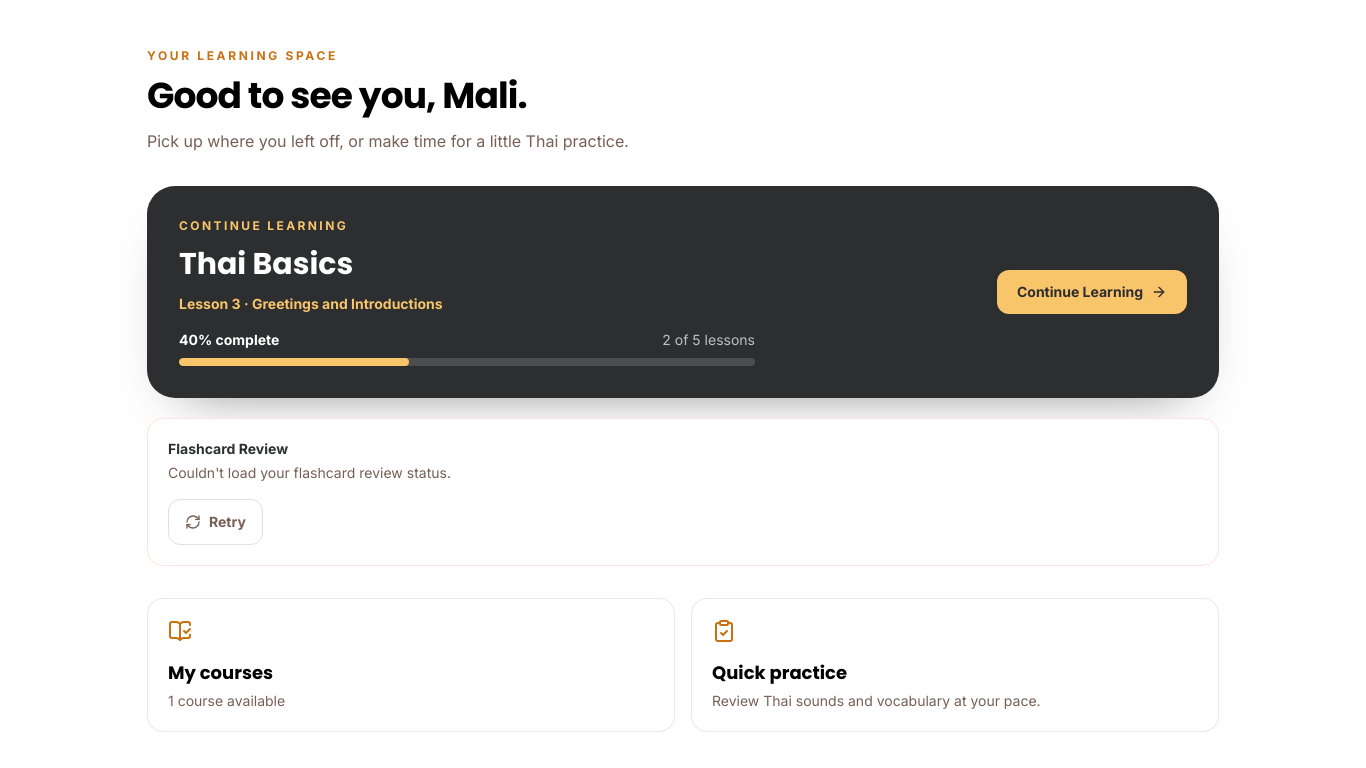
Test: precise continue learning navigation › keeps Continue Learning available when review summary fails and retries only review summary
Expected: the link "Continue Learning" is shown, [997, 270, 1187, 314]
Expected: the message "Couldn't load your flashcard review status." is shown, [168, 464, 451, 481]
Click the button "Retry" at [215, 522], box [168, 499, 263, 545]
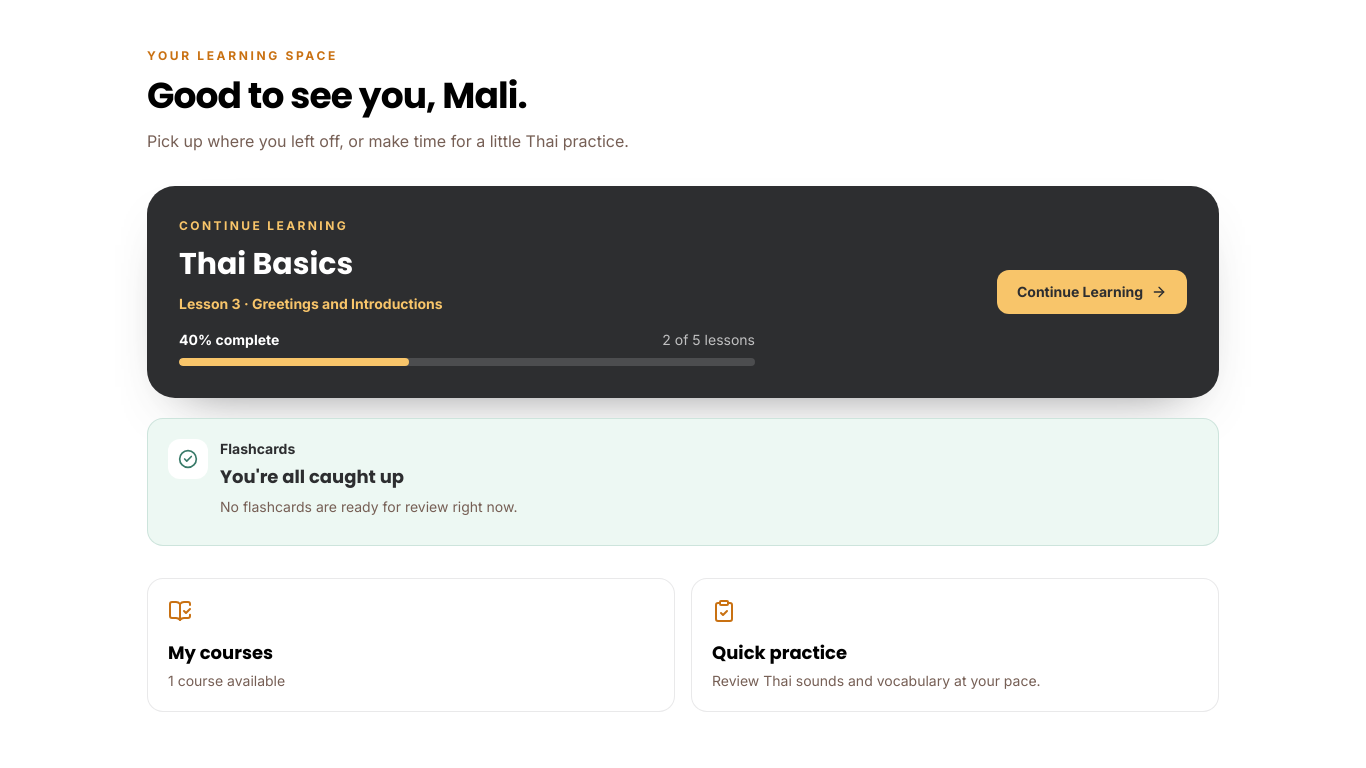
Result: the heading "You're all caught up" is shown at [220, 464, 404, 489]
